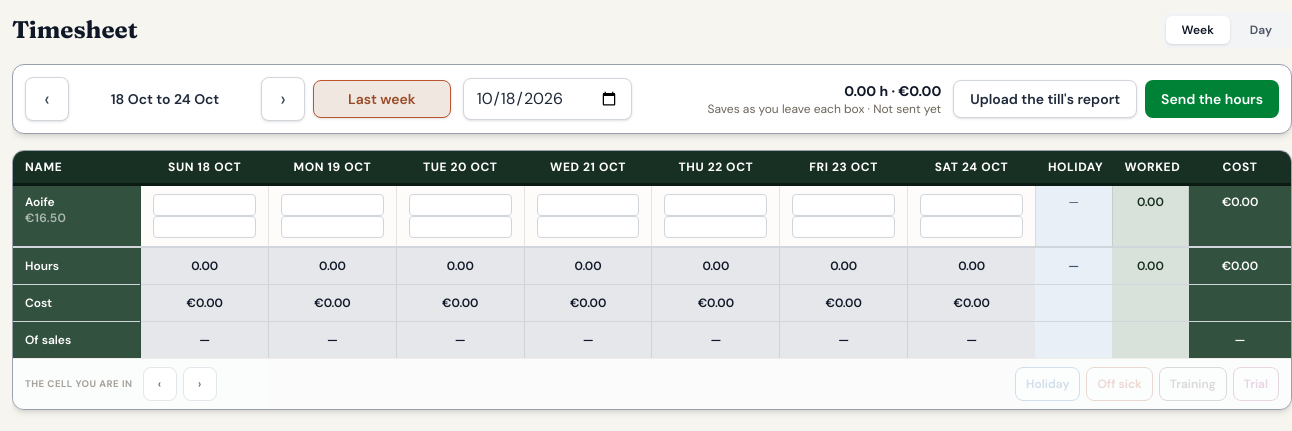
Test: the second view › draws all the days for a phone and one day for a computer
The width and height of the screenshot is (1292, 431).
Click the button named "All days" at (1261,30), box [1234,16,1288,44]
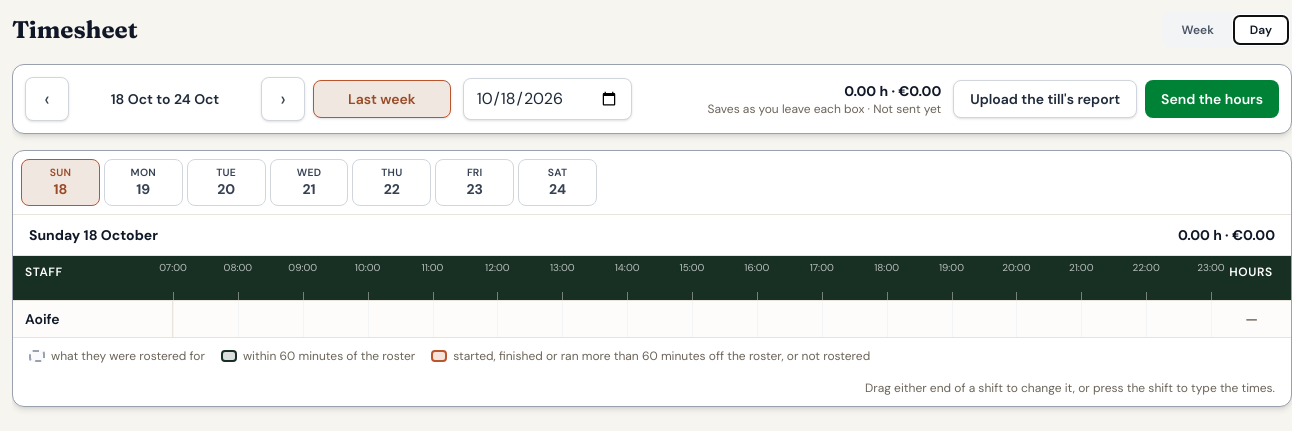
Now the element that starts with "Sun" is shown, box [12,150,1291,407]
